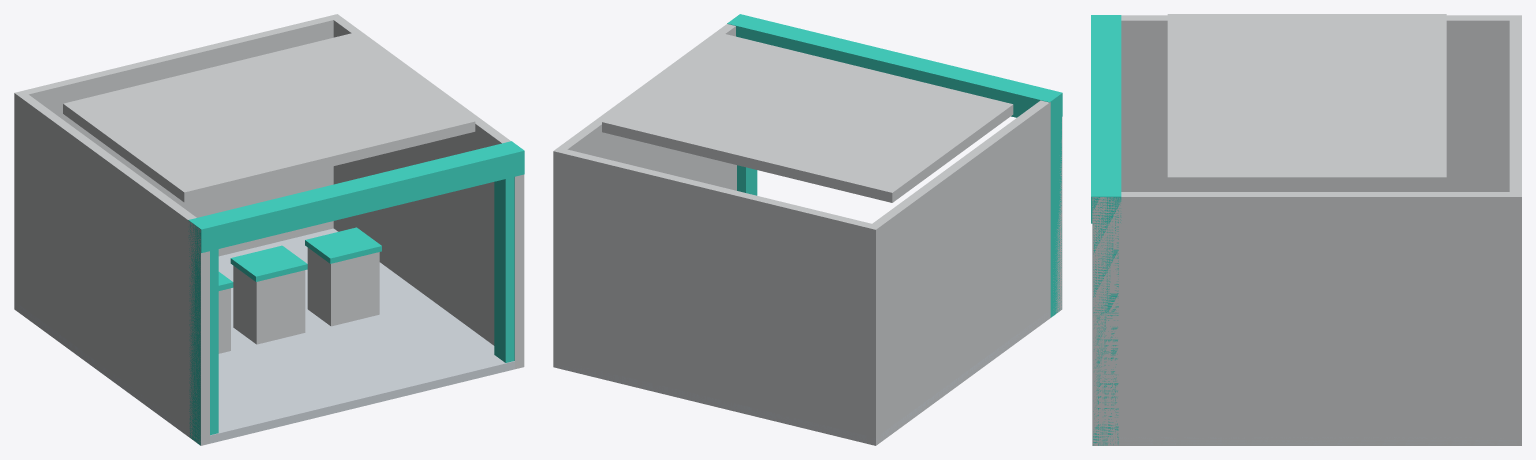
3 renders of one model, left to right at view 1: azimuth 30°, elevation 25°; view 2: azimuth 150°, elevation 25°; view 3: azimuth 270°, elevation 25°, orthographic. The views are drawn at different scales.
Parts seen in each view (by area): view 1: Exhibition Booth Concept; view 2: Exhibition Booth Concept; view 3: Exhibition Booth Concept.
Boxes of the visible parts, bbox=[...] form: Exhibition Booth Concept: bbox=[14, 14, 524, 445]; Exhibition Booth Concept: bbox=[553, 14, 1062, 445]; Exhibition Booth Concept: bbox=[1091, 14, 1521, 445].
Bounding box in the file's own units: 5 × 3.34 × 5.02.
